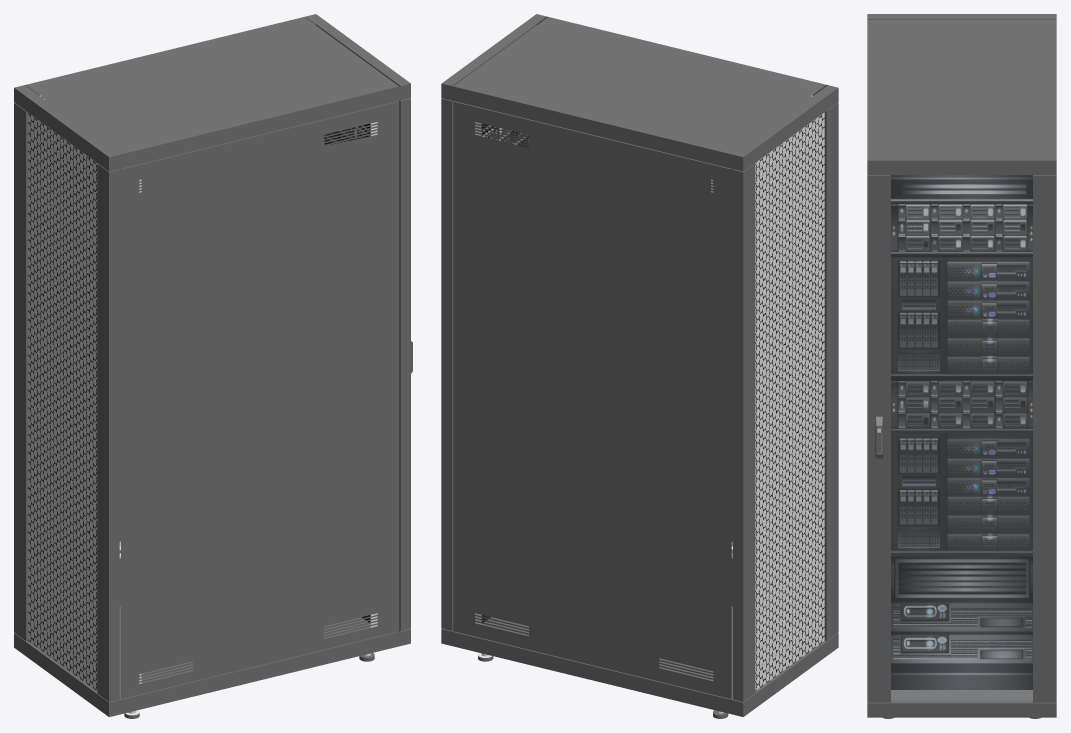
The model's file is rack_all_gray.glb.
3 views of the same model, side by side, from view 1: azimuth 30°, elevation 25°; view 2: azimuth 150°, elevation 25°; view 3: azimuth 270°, elevation 25° (orthographic).
Parts seen in each view (by area): view 1: Cube.004; view 2: Cube.004; view 3: Cube.004.
Boxes of the visible parts, x1=… form: Cube.004: x1=14, y1=14, x2=412, y2=718; Cube.004: x1=441, y1=14, x2=838, y2=718; Cube.004: x1=867, y1=14, x2=1056, y2=718.
Size of the model in its own units: 1.14 by 2.03 by 0.6096.
Materials: 9 (2 with a texture image).
